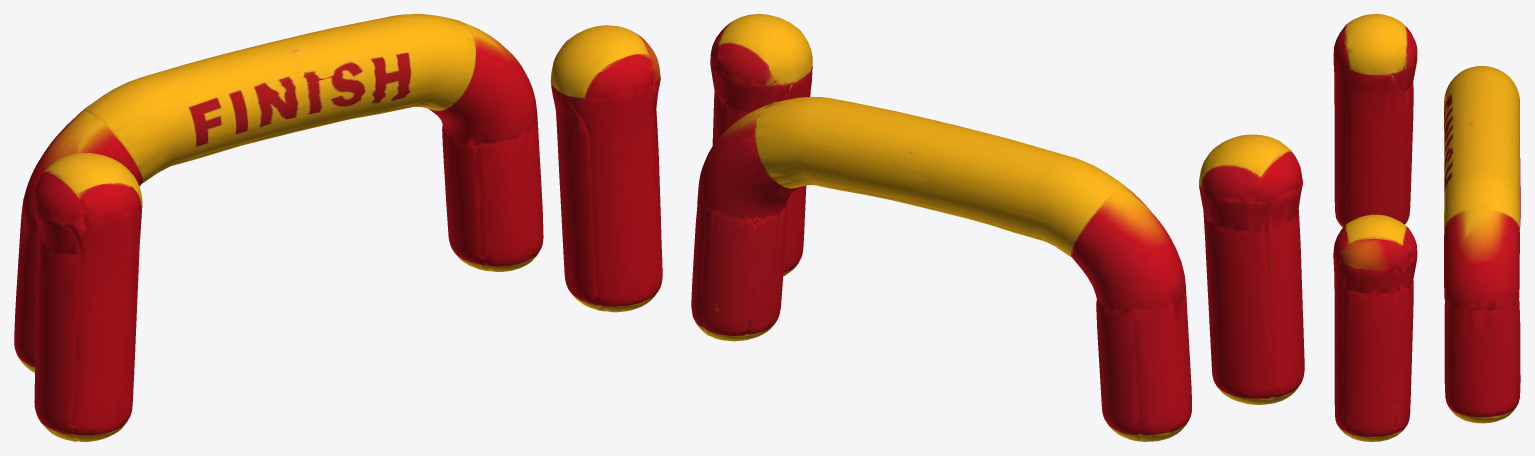
Rendered from finishArch.37d9c60b.glb.
3 renders of one model, left to right at view 1: azimuth 30°, elevation 25°; view 2: azimuth 150°, elevation 25°; view 3: azimuth 270°, elevation 25°, orthographic. The views are drawn at different scales.
Size of the model in its own units: 1.9 by 0.795 by 0.6386.
1 material, 1 textured.
